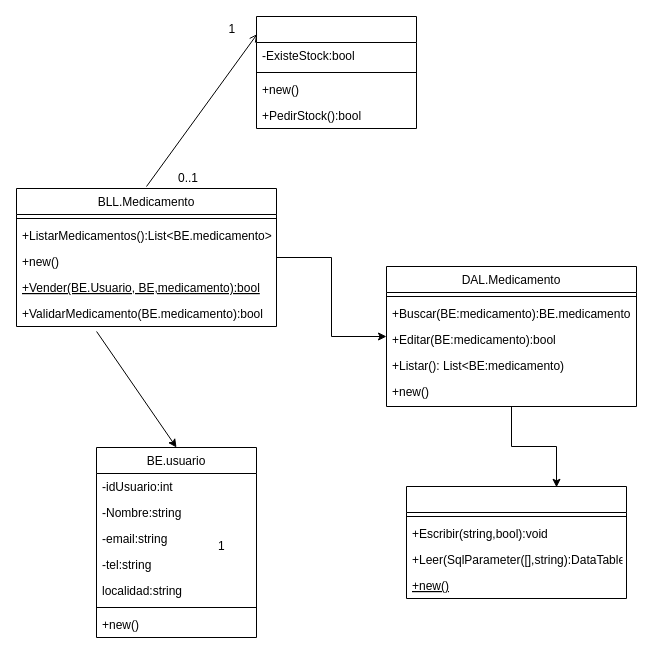
Image size: 653x654. Some labels were removed from this diagram. The shapes that lost their labels are listed below. From the top down, each one's box as (x1, y1, x2, y2) in pixels, then its label:
(256, 16, 416, 128): BE.Medicamento
(406, 486, 626, 598): acceso
